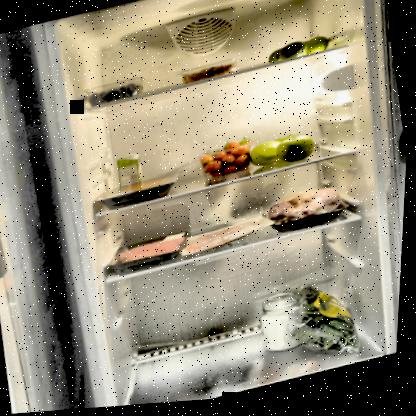apple: (252, 130, 320, 178)
beef: (100, 172, 186, 213)
blueberries: (89, 80, 147, 111)
chicken: (263, 183, 357, 244)
ground_beef: (116, 235, 187, 271)
heavy_cream: (116, 152, 148, 190)
lime: (264, 36, 333, 71)
shrimp: (181, 65, 238, 89)
spinach: (281, 277, 374, 379)
strawberries: (198, 140, 260, 182)
